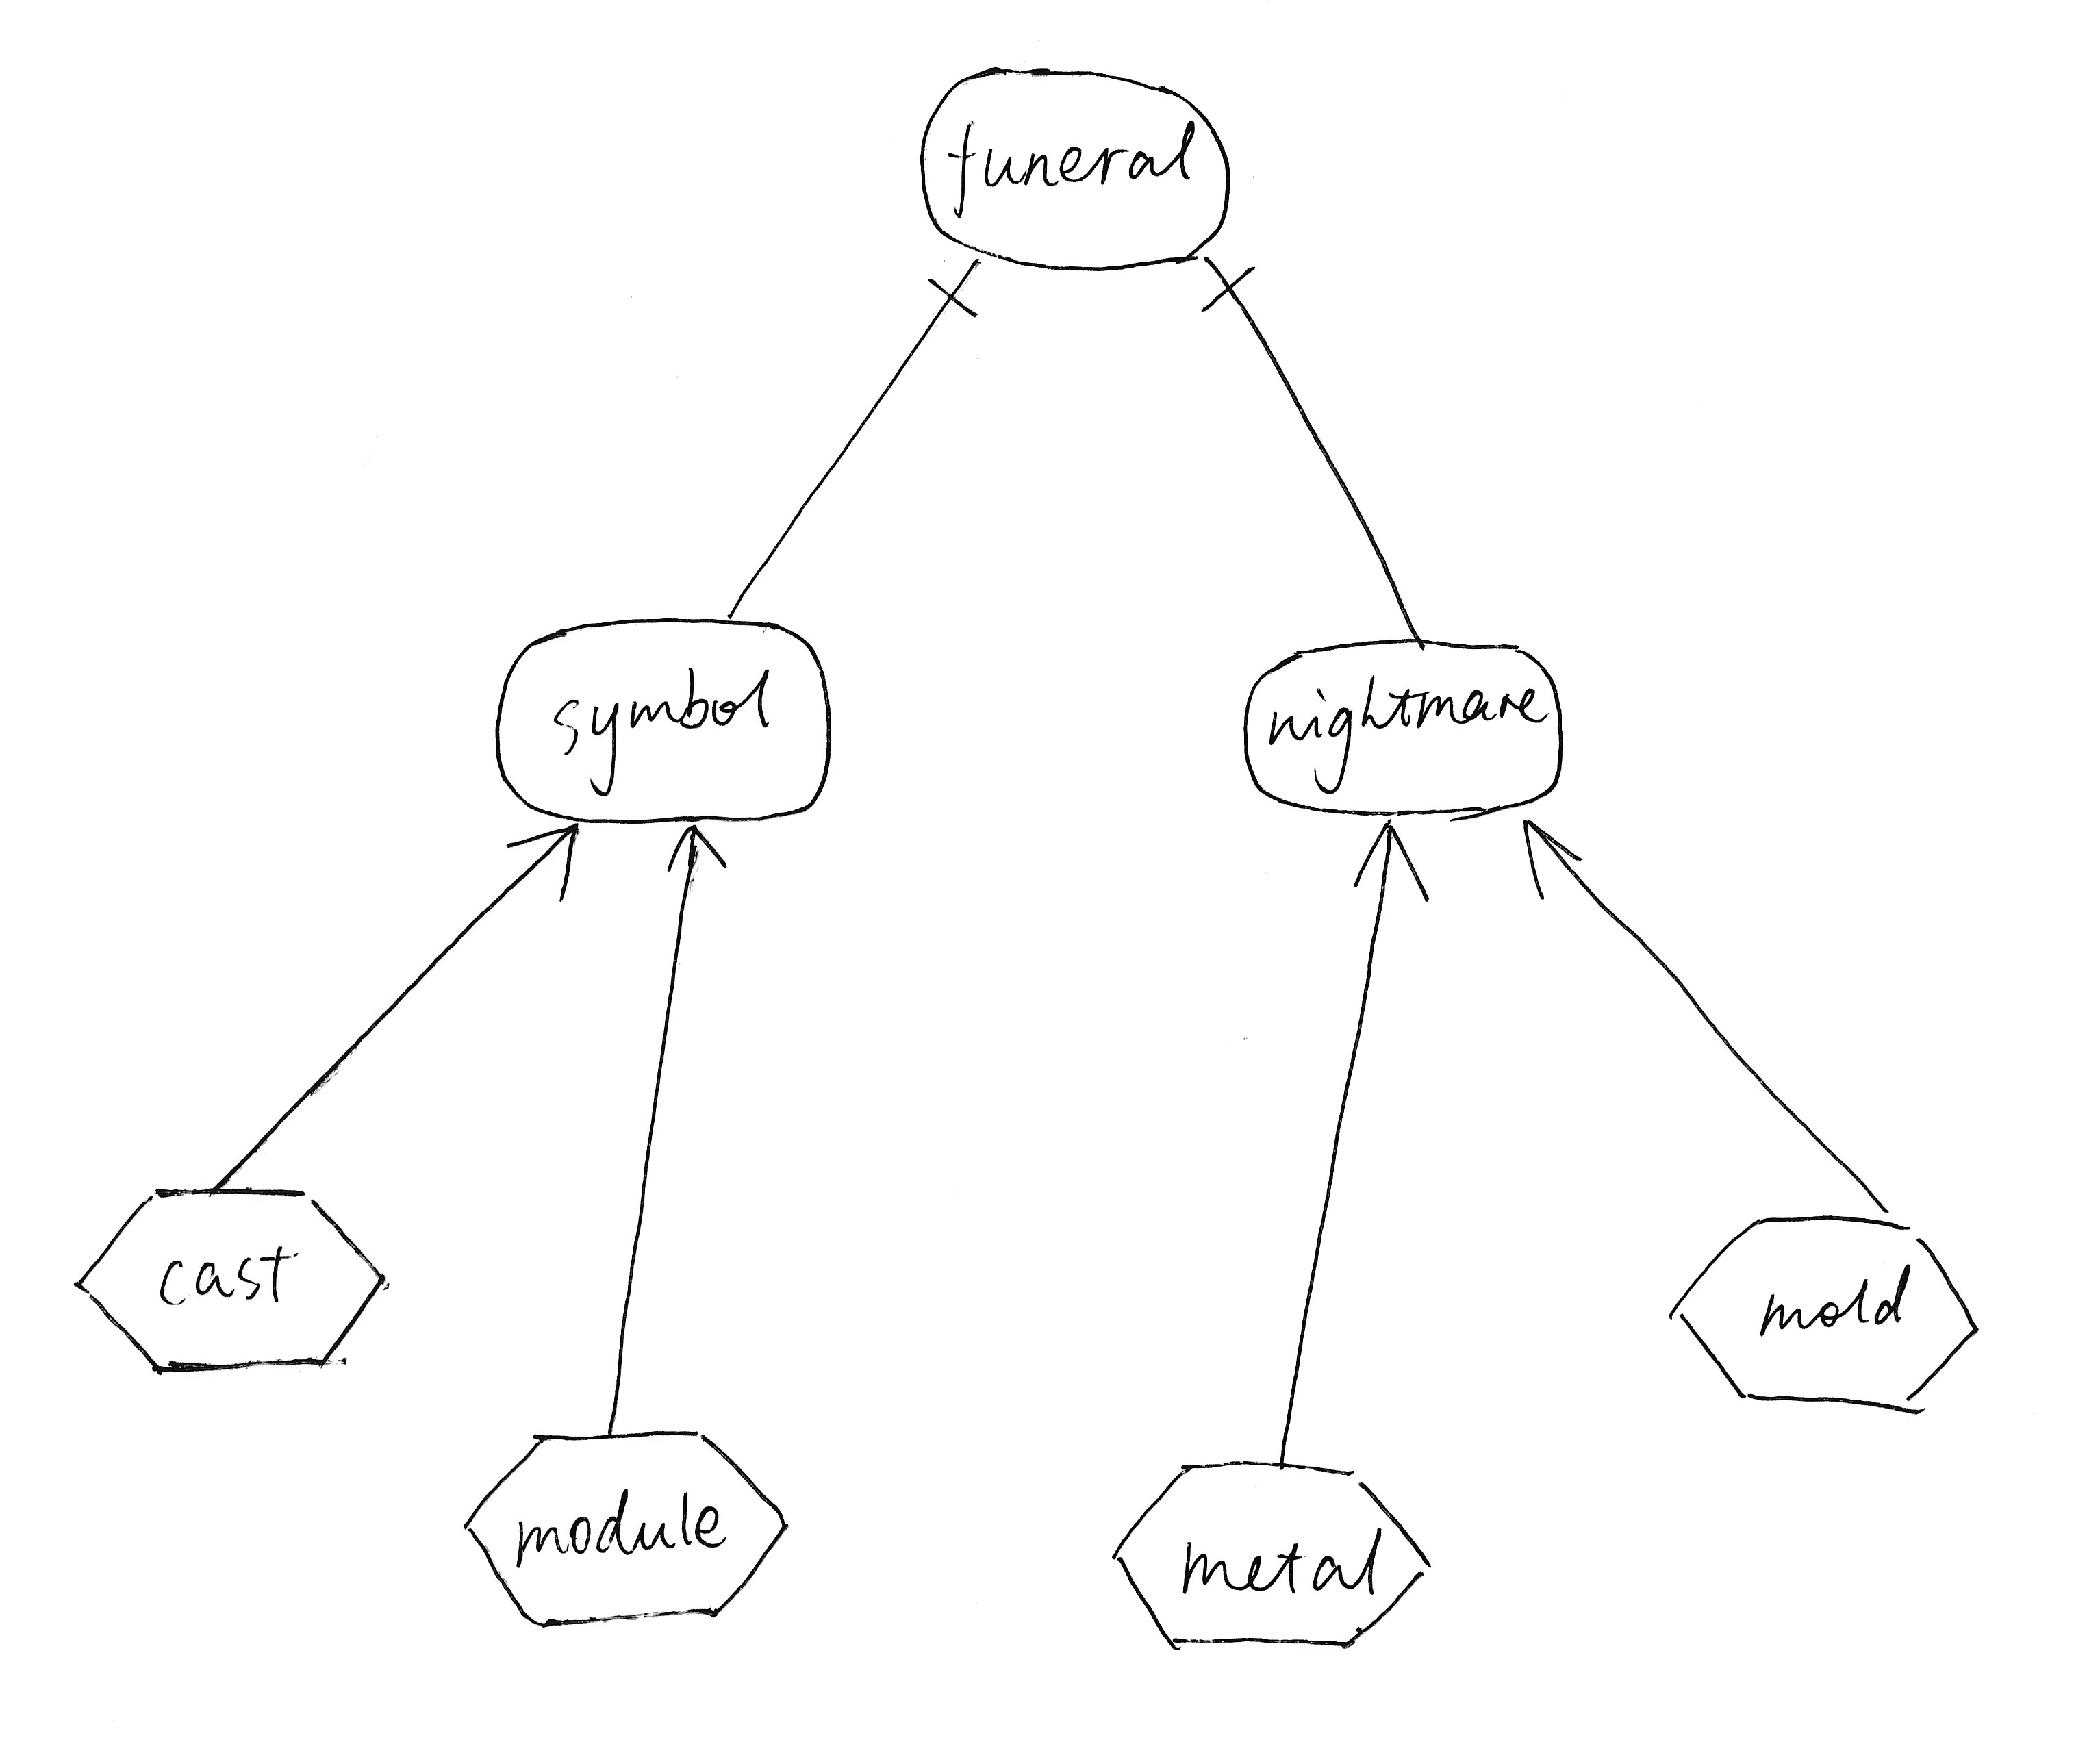arrow: (1491, 806, 1599, 907), (494, 814, 600, 915), (1341, 811, 1446, 912), (652, 816, 736, 889)
goal: (481, 605, 844, 839), (905, 49, 1238, 282), (1226, 621, 1578, 834)
task: (1650, 1200, 2008, 1433), (452, 1414, 804, 1637), (1097, 1446, 1444, 1669), (59, 1168, 403, 1388), (893, 262, 992, 344), (1186, 253, 1278, 324)
